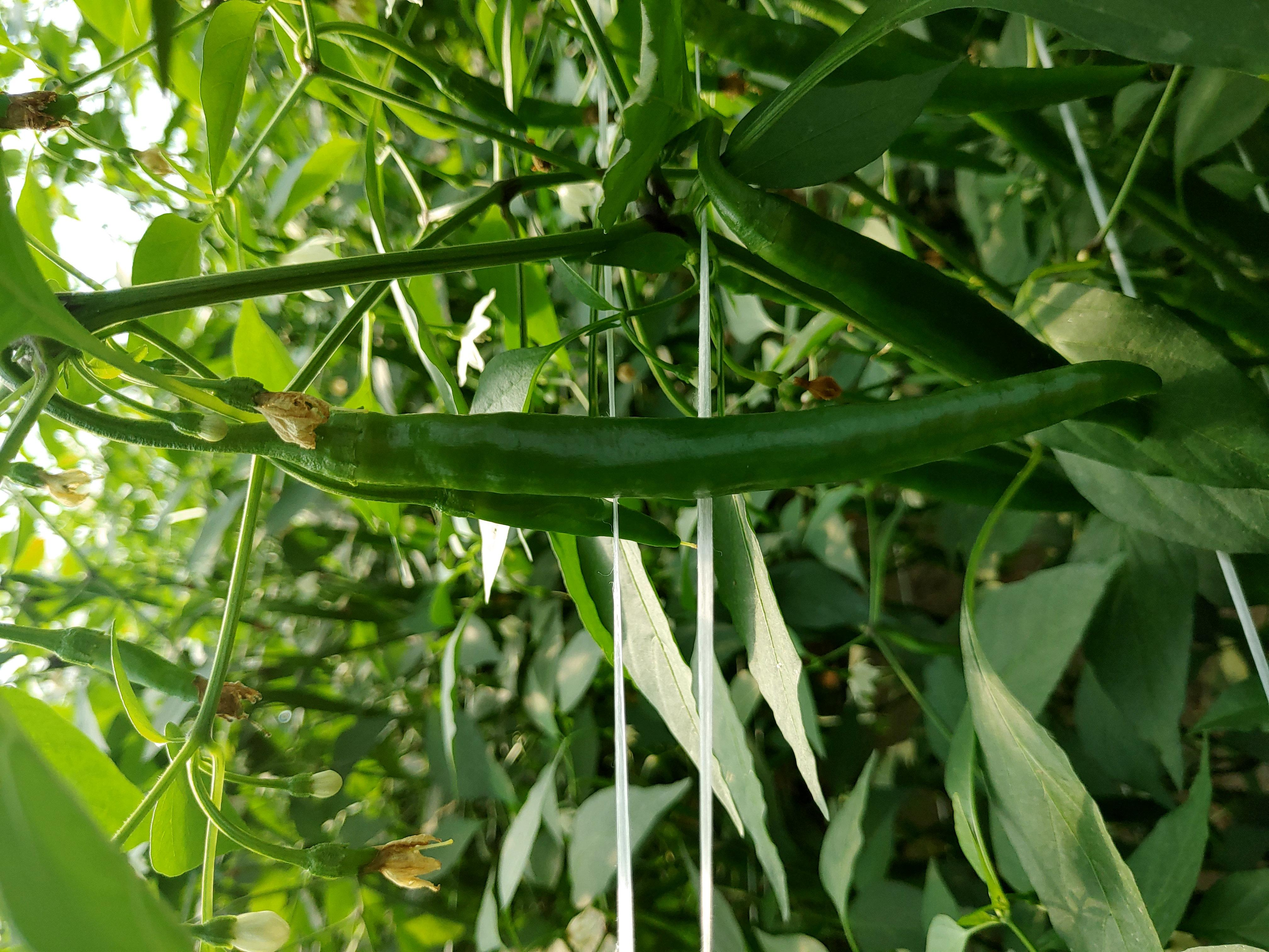Buah Cabai Sehat: (250, 361, 1185, 500)
